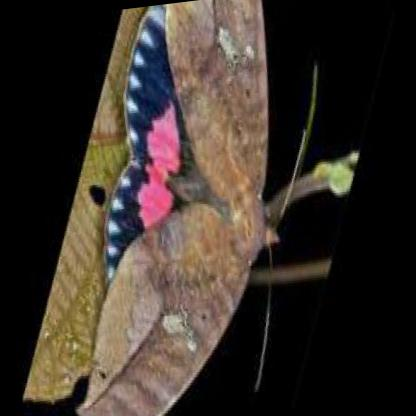fruit sucking moth: (33, 0, 278, 416)
